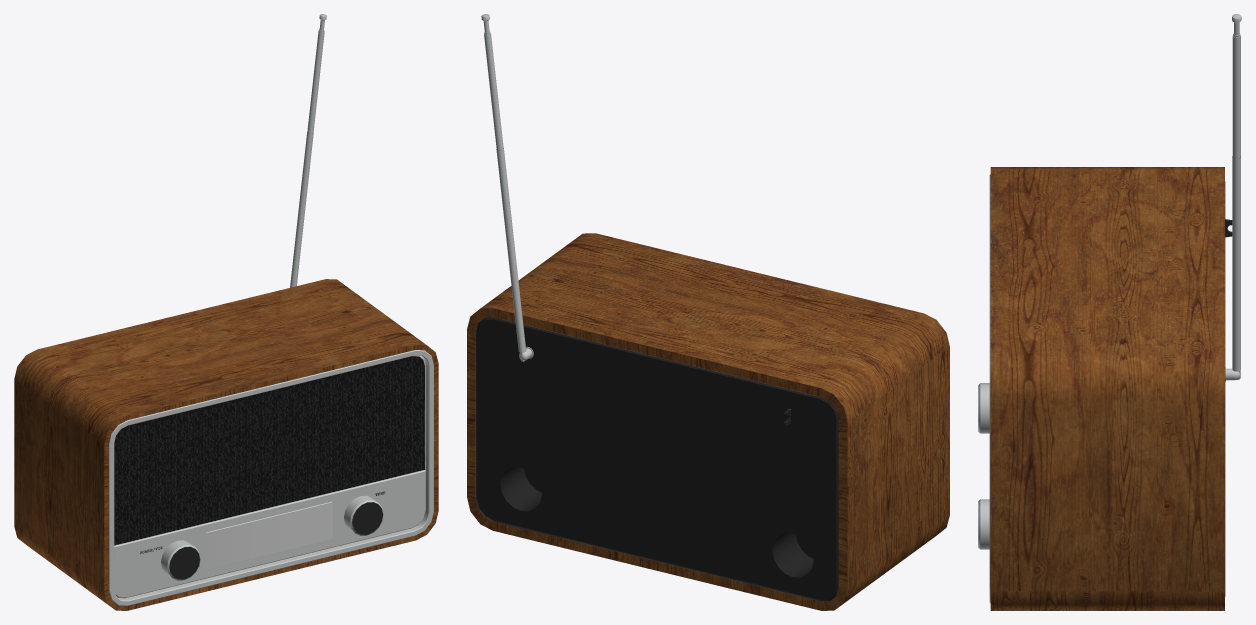
Rendered from Radio.fbx.
3 views of the same model, side by side, from view 1: azimuth 30°, elevation 25°; view 2: azimuth 150°, elevation 25°; view 3: azimuth 270°, elevation 25° (orthographic). The views are drawn at different scales.
Visible parts, largest first — view 1: Radio, Screen, Volume, Tune; view 2: Radio; view 3: Radio, Tune, Volume.
Boxes of the visible parts, x1,y1,x2,y2 form: Radio: (14, 14, 438, 610); Screen: (206, 501, 332, 569); Volume: (161, 540, 200, 580); Tune: (344, 495, 383, 535); Radio: (467, 14, 949, 610); Radio: (989, 14, 1241, 610); Tune: (978, 499, 989, 549); Volume: (978, 383, 989, 433).
Size of the model in its own units: 24.88 by 32.45 by 13.03.
